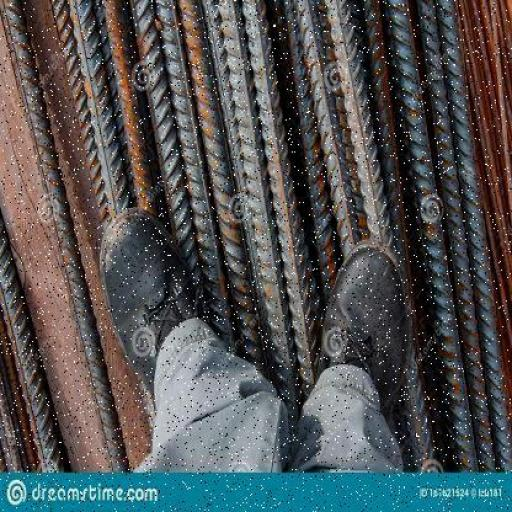safety_shoe: (102, 216, 236, 424), (322, 242, 412, 405)
